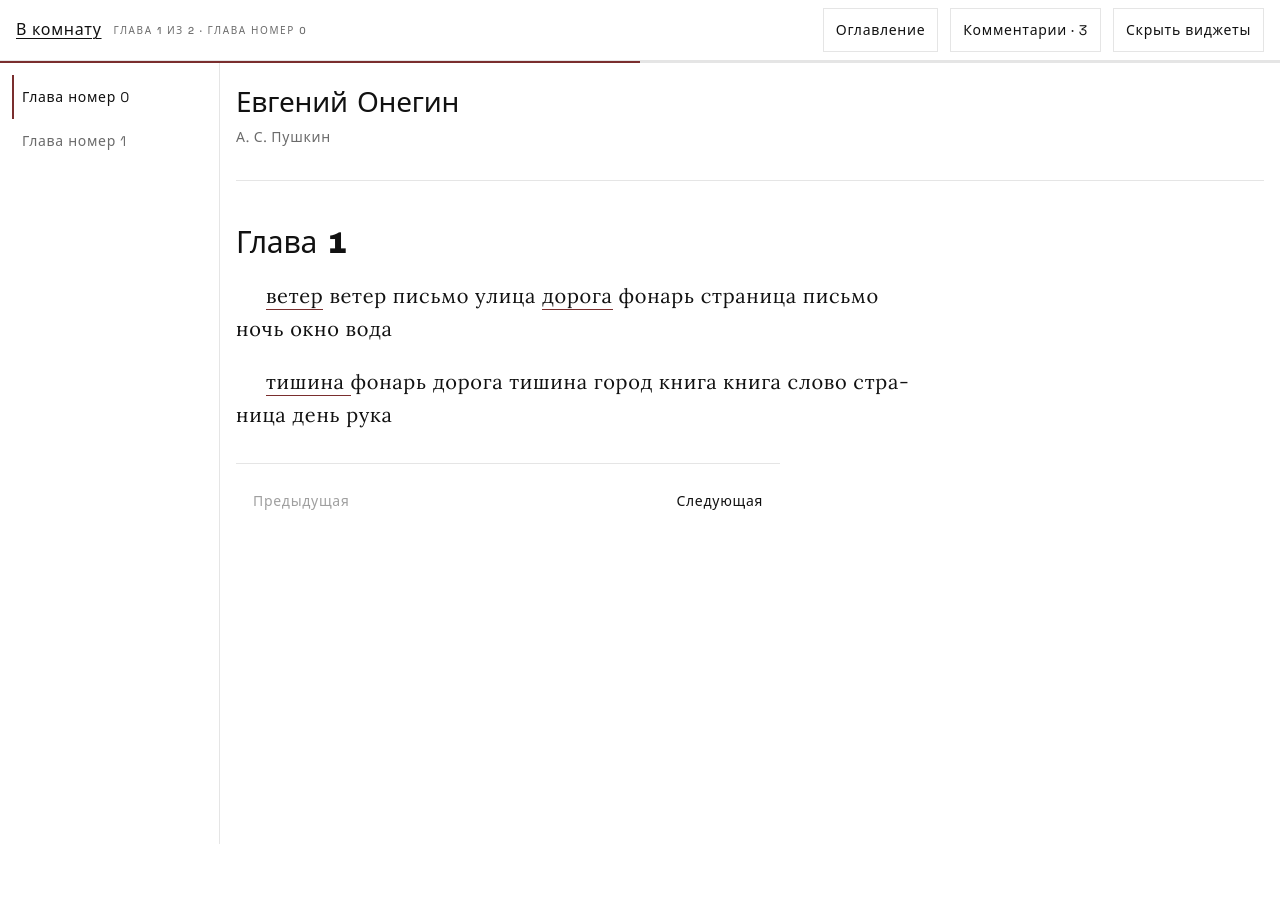
Scenario: клик по комментарию в панели › комментарий без маркера в тексте не роняет страницу
Expected: the element that starts with "ветер" is shown, [236,279,916,345]
Expected: the text "ветер" is shown, [266,283,324,310]
What coordinates should you click on to do the following:
click the button with class "reader__comments-toggle"
I would click on:
 (1026, 30)
Its box is [950,8,1101,52].
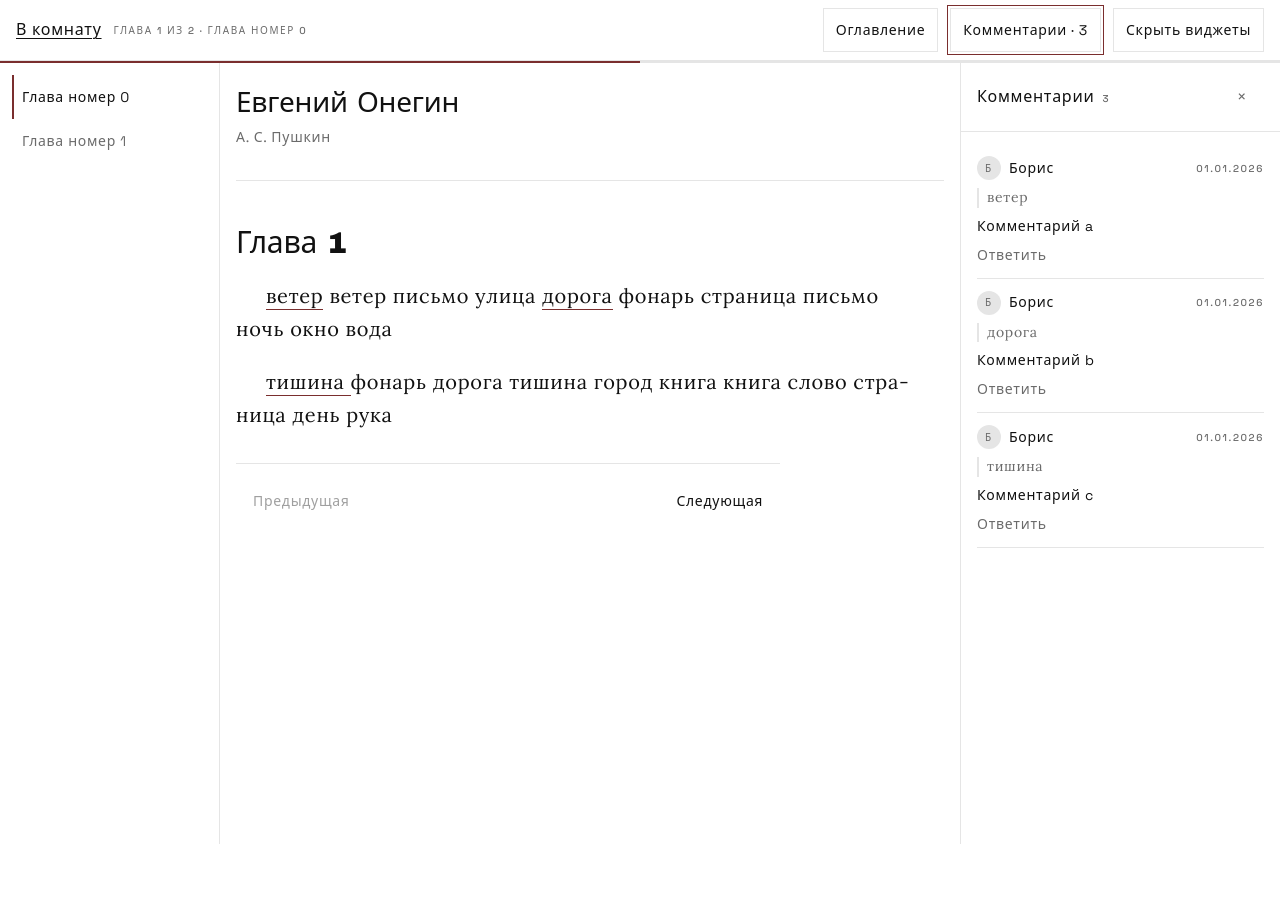
What coordinates should you click on to do the following:
click the button with class "comment__link" below "Комментарий b"
I would click on:
 (1012, 390)
Its box is [977,379,1047,400].
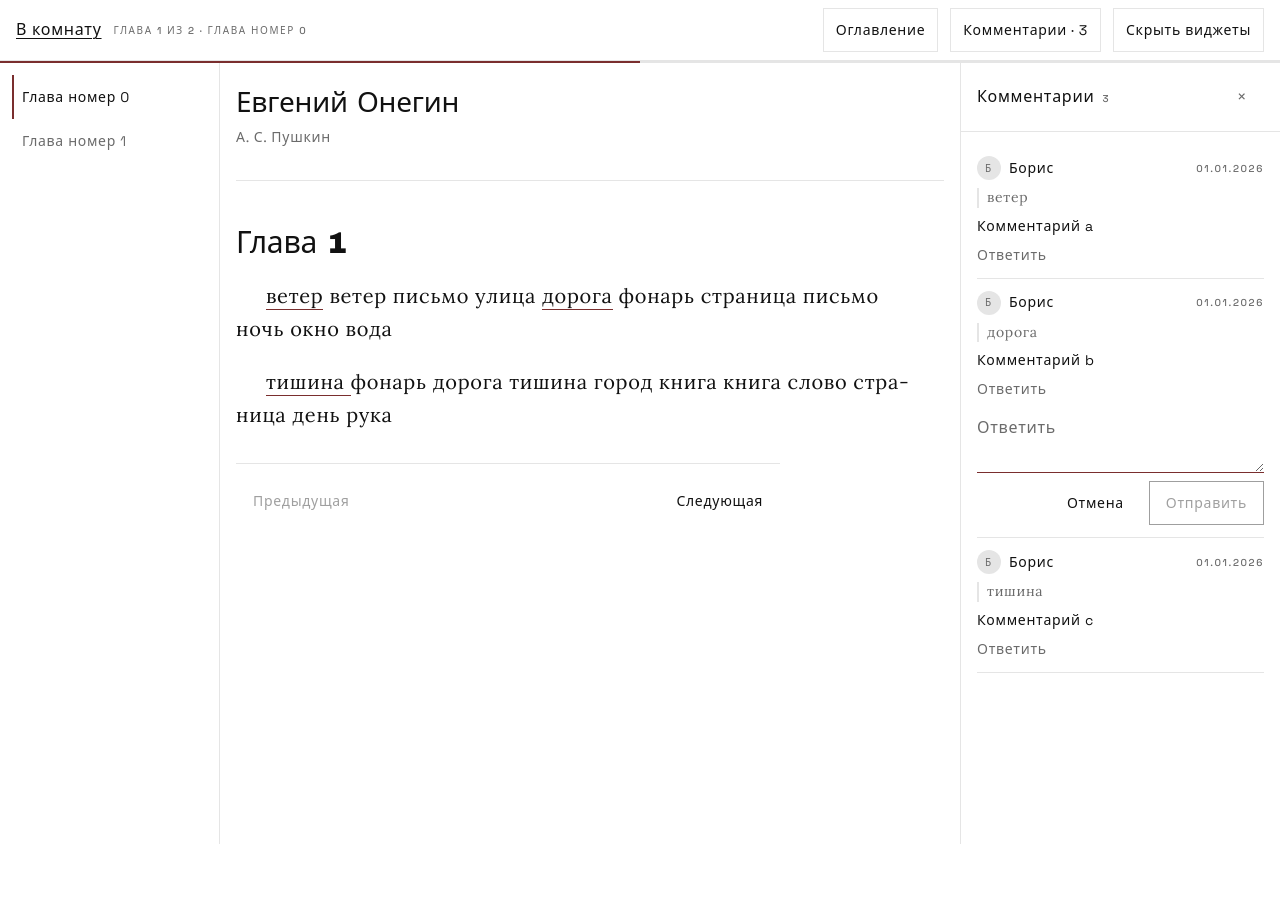
Expected: the text box with placeholder "Ответить" is shown, [977,408,1264,473]
